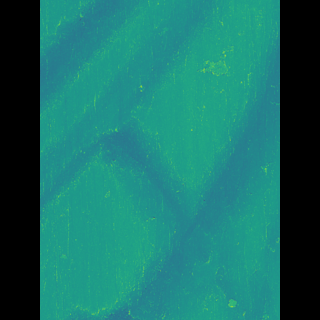Loch: (154, 103, 250, 319), (86, 179, 177, 320), (69, 0, 142, 118)
